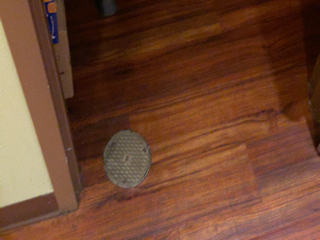Obstacle: (2, 2, 82, 239), (99, 119, 160, 197)
